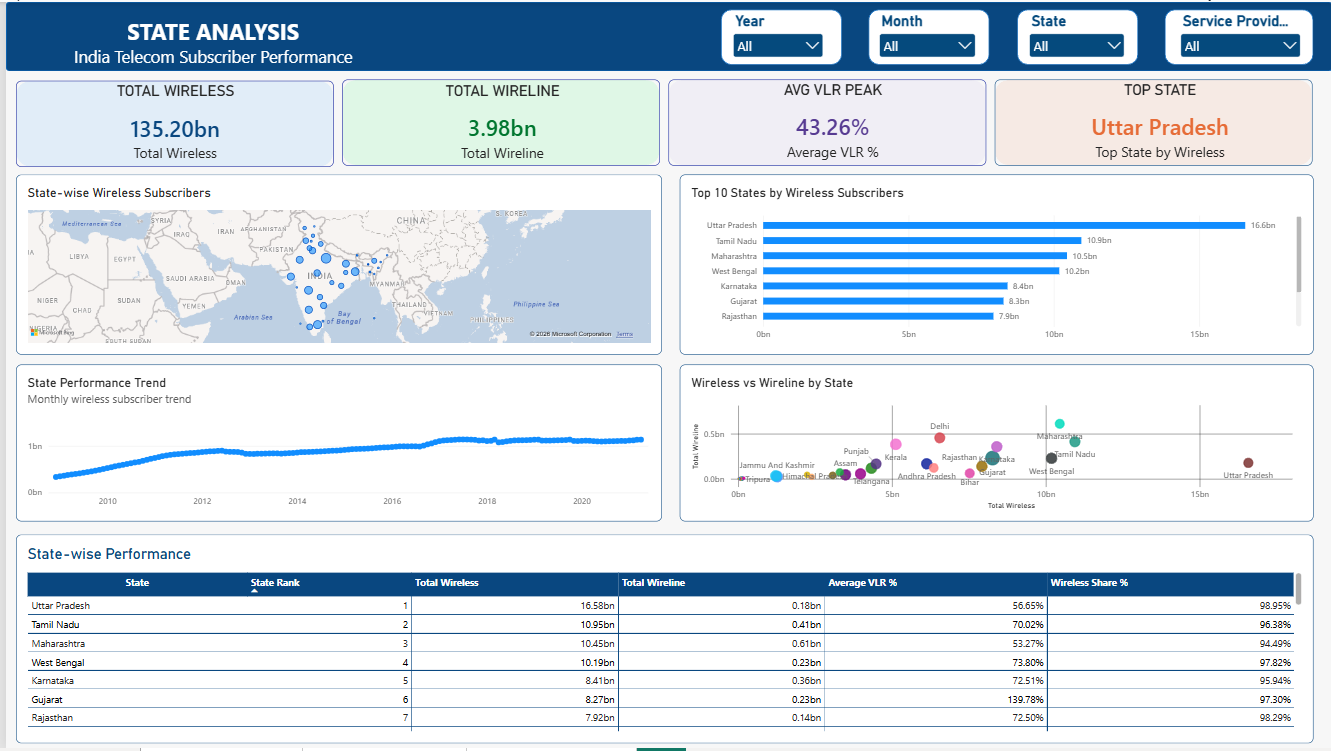

This screenshot's page, from the dashboard's own definition file:
{"tool":"powerbi","page":{"name":"STATE ANALYSIS","canvas":[1920,1080],"ordinal":0},"visuals":[{"type":"shape","box":[0,0,1920,100],"z":0},{"type":"shape","box":[1035,10,175,80],"z":0,"group":"g1"},{"type":"shape","box":[1249.2,10,175,80],"z":0,"group":"g2"},{"type":"shape","box":[1463.3,10,175,80],"z":0,"group":"g4"},{"type":"shape","box":[1677.5,10,215,80],"z":0,"group":"g3"},{"type":"shape","box":[960,111.8,460,125],"z":0,"group":"g6"},{"type":"shape","box":[1432,112,460,125],"z":0,"group":"g5"},{"type":"shape","box":[487.5,112.9,460,125],"z":0,"group":"g7"},{"type":"shape","box":[15,113.9,460,125],"z":0,"group":"g8"},{"type":"slicer","fields":{"Values":["DateTable.Year"]},"box":[1048.3,13.3,140,66.7],"z":1000,"group":"g1"},{"type":"slicer","fields":{"Values":["telecom_data.State"]},"box":[1476.3,13.3,147.8,75.6],"z":1000,"group":"g4"},{"type":"slicer","fields":{"Values":["telecom_data.Service Provider"]},"box":[1694.7,13.3,183.3,74.4],"z":1000,"group":"g3"},{"type":"slicer","fields":{"Values":["DateTable.Month"]},"box":[1260.1,14.4,148.9,72.2],"z":1000,"group":"g2"},{"type":"textbox","box":[0,20,600,100],"z":1000},{"type":"cardVisual","title":"AVG VLR PEAK","fields":{"Data":["M.Average VLR %"]},"box":[1066.2,114,262.5,121.2],"z":1000,"group":"g6"},{"type":"cardVisual","title":"TOP STATE","fields":{"Data":["M.Top State by Wireless"]},"box":[1553.6,114.5,236.2,122.5],"z":1000,"group":"g5"},{"type":"cardVisual","title":"TOTAL WIRELINE","fields":{"Data":["M.Total Wireline"]},"box":[571.3,115.7,297.5,120],"z":1000,"group":"g7"},{"type":"cardVisual","title":"TOTAL WIRELESS","fields":{"Data":["M.Total Wireless"]},"box":[115,116.5,262.5,122.5],"z":1000,"group":"g8"},{"type":"group","id":"g1","title":"year slicer","box":[1035,10,175,80],"z":2000},{"type":"group","id":"g2","title":"month slicer","box":[1249.2,10,175,80],"z":3000},{"type":"group","id":"g3","title":"service slicer","box":[1677.5,10,215,80],"z":4000},{"type":"group","id":"g4","title":"state slicer","box":[1463.3,10,175,80],"z":5000},{"type":"group","id":"g5","title":"topstate","box":[1432,112,460,124],"z":6000},{"type":"group","id":"g6","title":"VRL CARD","box":[960,111.8,460,125],"z":7000},{"type":"group","id":"g7","title":"wireline card","box":[487.5,112.9,460,125],"z":8000},{"type":"group","id":"g8","title":"wireless card","box":[15,113.9,460,125.1],"z":9000},{"type":"clusteredBarChart","title":"Top 10 States by Wireless Subscribers","fields":{"Category":["telecom_data.State"],"Y":["M.Total Wireless"]},"box":[975.4,249.7,917.5,260.6],"z":10000},{"type":"map","title":"State-wise Wireless Subscribers","fields":{"Category":["telecom_data.State"],"Size":["M.Total Wireless"]},"box":[14.5,249.7,935.6,260.6],"z":11000},{"type":"lineChart","title":"State Performance Trend","fields":{"Category":["telecom_data.Month"],"Y":["M.Total Wireless"]},"box":[14.5,524.8,935,227.5],"z":12000},{"type":"scatterChart","title":"State-wise Wireless vs Wireline Subscribers","fields":{"Category":["telecom_data.State"],"Size":["M.Average VLR %"],"X":["M.Total Wireless"],"Y":["M.Total Wireline"]},"box":[975.4,524.8,917.5,227.5],"z":13000},{"type":"pivotTable","title":"State-wise Performance","fields":{"Rows":["telecom_data.State"],"Values":["M.State Rank","M.Total Wireless","M.Total Wireline","M.Average VLR %","M.Wireless Share %"]},"box":[14.5,770.9,1878.4,302.2],"z":14000}]}

Visuals, with their boxes in screenshot pixels (x1, y1, x2, y2), scaled from the page's 1920x1080 canvas onto the 1331x751 screenshot:
shape: 0/0/1330/70
shape: 717/7/839/63
shape: 866/7/987/63
shape: 1014/7/1136/63
shape: 1163/7/1312/63
shape: 666/78/984/165
shape: 993/78/1312/165
shape: 338/79/657/165
shape: 10/79/329/166
slicer - DateTable.Year: 727/9/824/56
slicer - telecom_data.State: 1023/9/1126/62
slicer - telecom_data.Service Provider: 1175/9/1302/61
slicer - DateTable.Month: 874/10/977/60
textbox: 0/14/416/83
"AVG VLR PEAK" cardVisual: 739/79/921/164
"TOP STATE" cardVisual: 1077/80/1241/165
"TOTAL WIRELINE" cardVisual: 396/80/602/164
"TOTAL WIRELESS" cardVisual: 80/81/262/166
"year slicer" group: 717/7/839/63
"month slicer" group: 866/7/987/63
"service slicer" group: 1163/7/1312/63
"state slicer" group: 1014/7/1136/63
"topstate" group: 993/78/1312/164
"VRL CARD" group: 666/78/984/165
"wireline card" group: 338/79/657/165
"wireless card" group: 10/79/329/166
"Top 10 States by Wireless Subscribers" clusteredBarChart: 676/174/1312/355
"State-wise Wireless Subscribers" map: 10/174/659/355
"State Performance Trend" lineChart: 10/365/658/523
"State-wise Wireless vs Wireline Subscribers" scatterChart: 676/365/1312/523
"State-wise Performance" pivotTable: 10/536/1312/746
